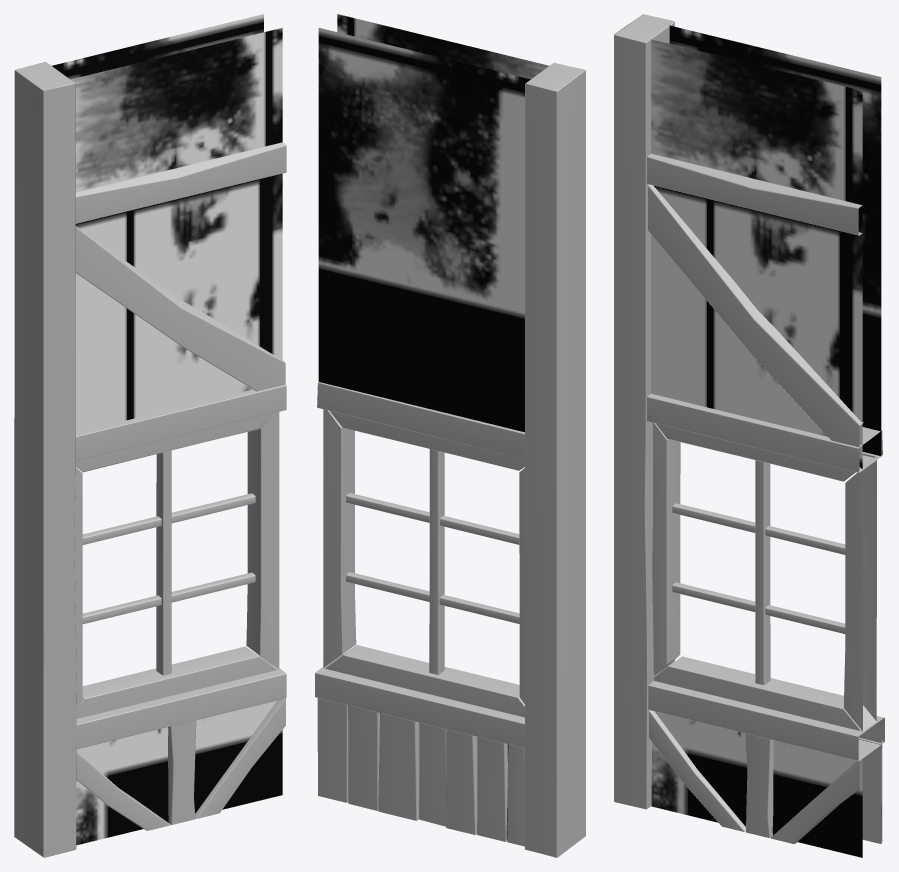
File: SM_WallWindow04.fbx
3 renders of one model, left to right at view 1: azimuth 30°, elevation 25°; view 2: azimuth 150°, elevation 25°; view 3: azimuth 330°, elevation 25°, orthographic.
Parts seen in each view (by area): view 1: SM_WallWindow04_LOD0; view 2: SM_WallWindow04_LOD0; view 3: SM_WallWindow04_LOD0.
Part boxes in pixels (x1=…): SM_WallWindow04_LOD0: x1=14, y1=14, x2=286, y2=857; SM_WallWindow04_LOD0: x1=315, y1=14, x2=585, y2=857; SM_WallWindow04_LOD0: x1=614, y1=14, x2=884, y2=857.
Bounding box in the file's own units: 150 × 31.03 × 450.
